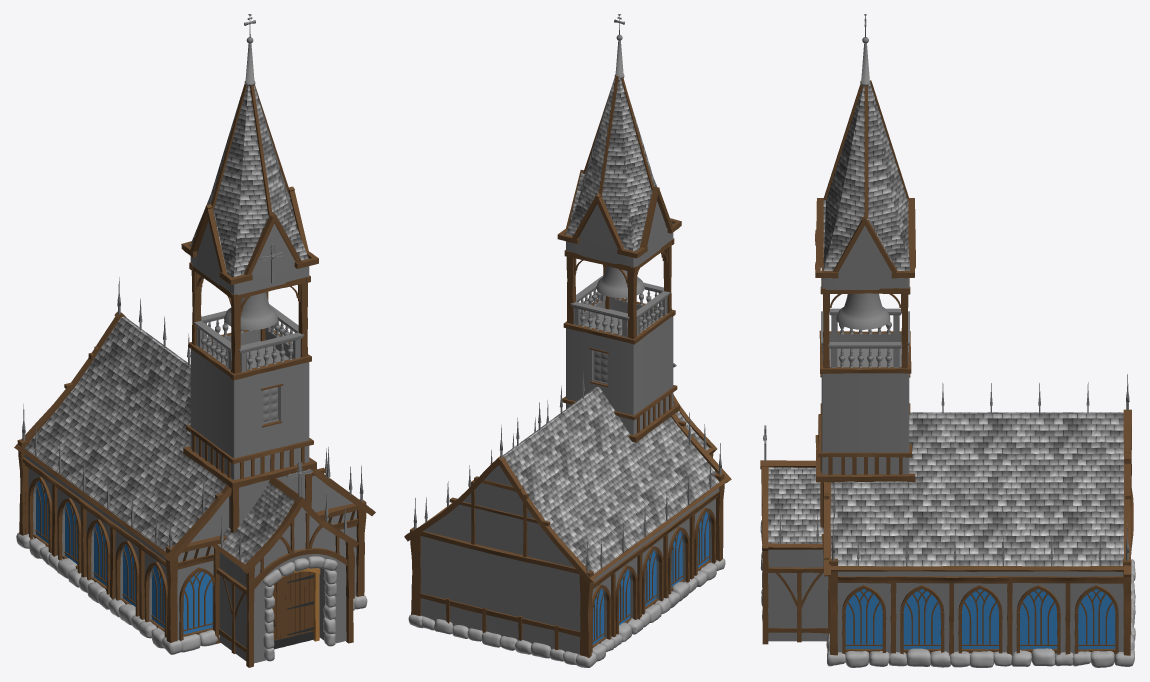
Rendered from SM_church.fbx.
The picture shows the model from 3 angles, left to right: view 1: azimuth 30°, elevation 25°; view 2: azimuth 150°, elevation 25°; view 3: azimuth 270°, elevation 25°; orthographic projection. The views are drawn at different scales.
Visible parts, largest first — view 1: Object32505; view 2: Object32505; view 3: Object32505.
Part boxes in pixels (x1,y1,x2,y2): Object32505: (14,14,375,667); Object32505: (404,14,731,667); Object32505: (760,14,1135,667).
Size of the model in its own units: 383 by 1057 by 592.
Materials: 11 (1 with a texture image).
